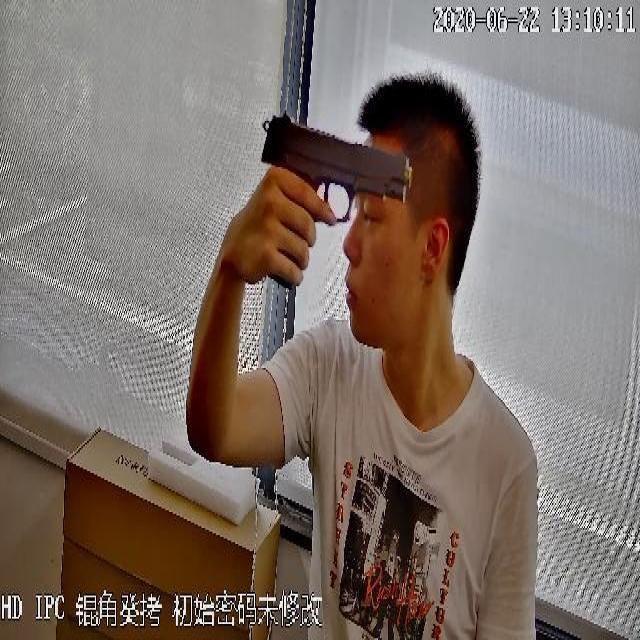pistol: (263, 111, 413, 291)
